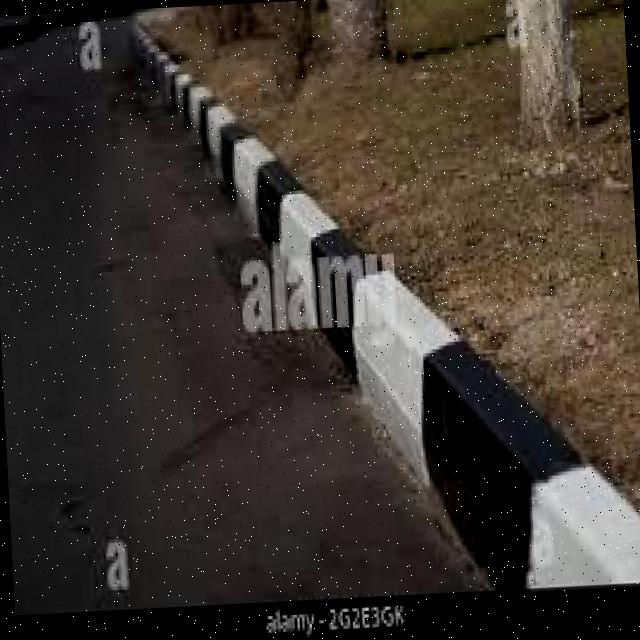curb: (357, 328, 640, 595), (259, 199, 429, 383), (176, 103, 329, 238), (126, 22, 204, 116)
